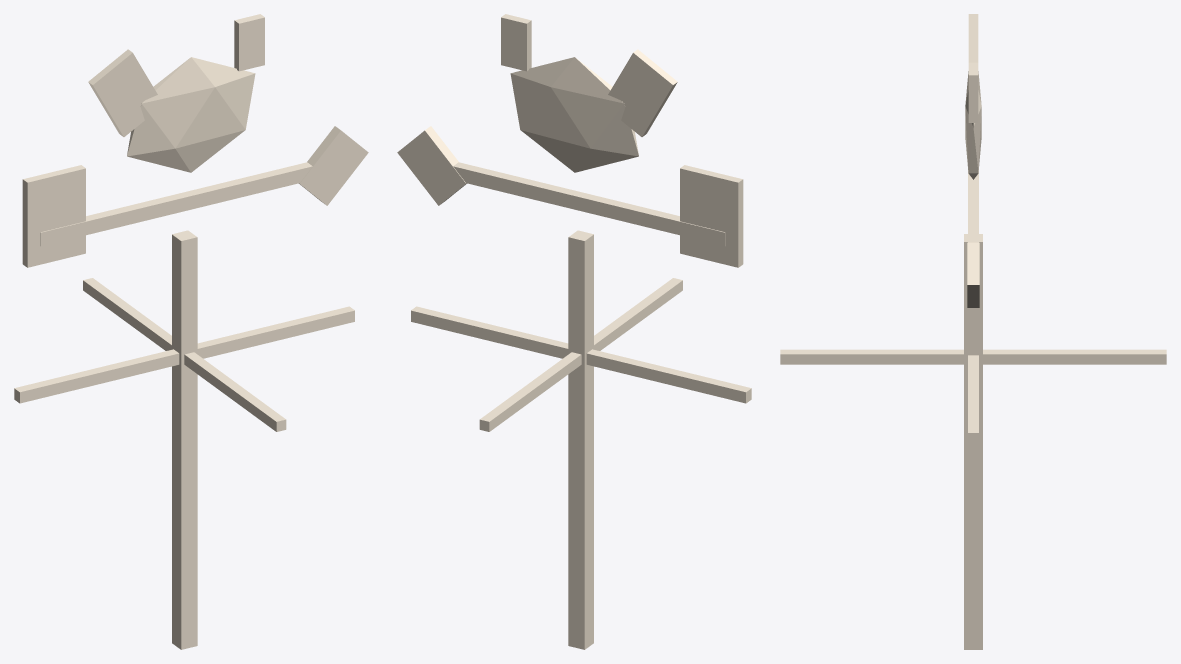
The model's file is SM_VK_Prop_Weathervane.fbx.
The picture shows the model from 3 angles, left to right: view 1: azimuth 30°, elevation 25°; view 2: azimuth 150°, elevation 25°; view 3: azimuth 270°, elevation 25°; orthographic projection.
Parts seen in each view (by area): view 1: SM_VK_Prop_Weathervane.001; view 2: SM_VK_Prop_Weathervane.001; view 3: SM_VK_Prop_Weathervane.001.
Part boxes in pixels (left/top/right/bottom): SM_VK_Prop_Weathervane.001: left=14, top=14, right=368, bottom=649; SM_VK_Prop_Weathervane.001: left=397, top=14, right=751, bottom=649; SM_VK_Prop_Weathervane.001: left=780, top=14, right=1166, bottom=649.
Bounding box in the file's own units: 1.07 × 1.79 × 1.03.
